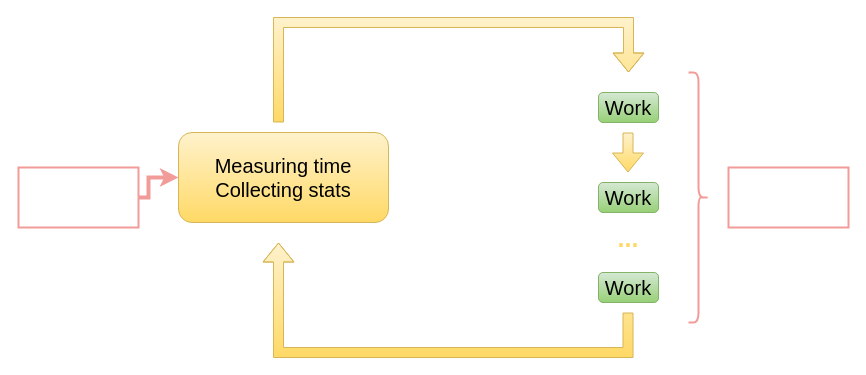
Image size: 866x375. Some labels were removed from this diagram. Here are the shapes that lost their labels. From the top down, the centre of each, then its label:
At (x=78, y=197): "Store or discard here".
At (x=788, y=197): "Collect events here".
